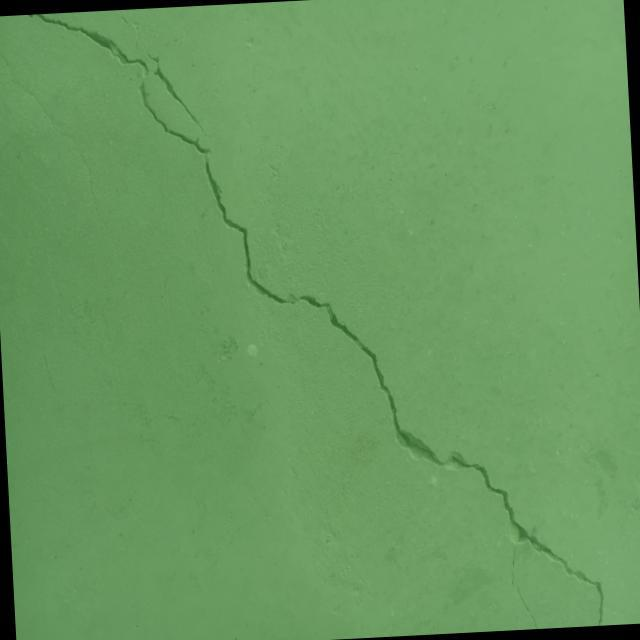crack: (28, 0, 605, 640), (0, 24, 91, 181), (510, 546, 540, 630)
